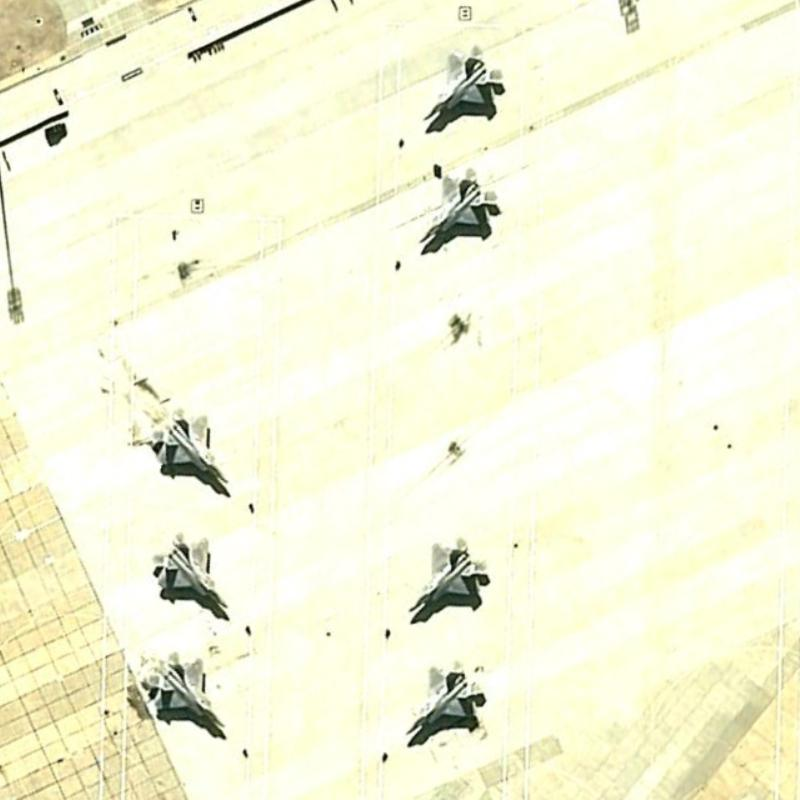A15: (134, 643, 229, 734), (416, 40, 508, 129), (412, 162, 500, 253), (144, 526, 233, 615), (144, 402, 231, 493), (402, 533, 491, 618)
